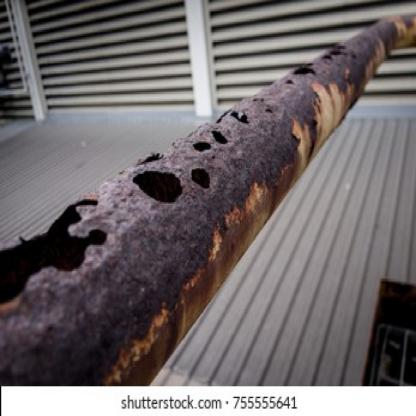burst: (2, 180, 109, 313), (123, 161, 233, 229), (191, 114, 237, 155)
